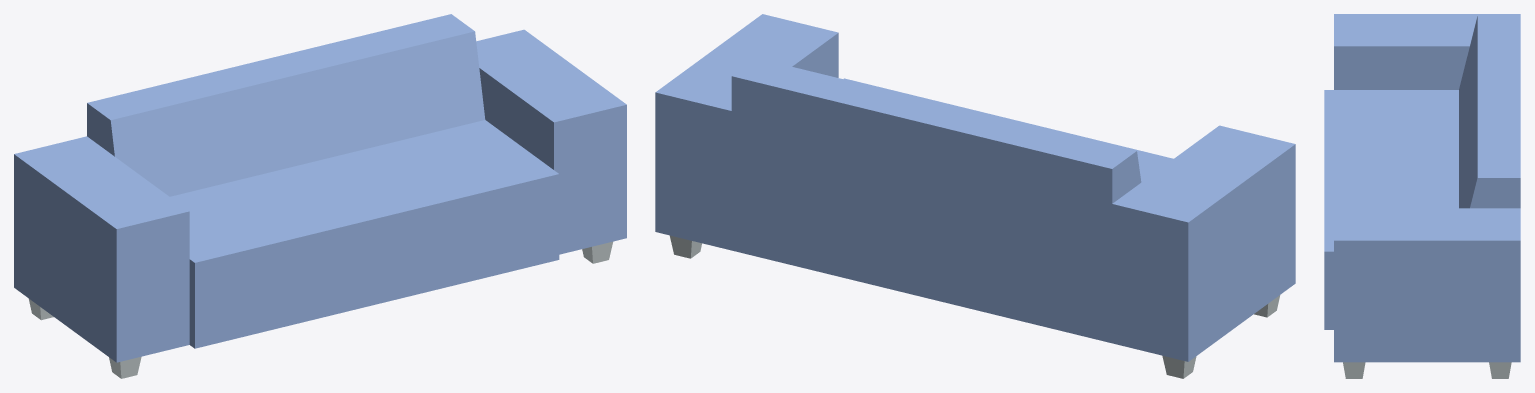
The model's file is loungeDesignSofa.glb.
The picture shows the model from 3 angles, left to right: view 1: azimuth 30°, elevation 25°; view 2: azimuth 150°, elevation 25°; view 3: azimuth 270°, elevation 25°; orthographic projection. The views are drawn at different scales.
Parts seen in each view (by area): view 1: loungeDesignSofa(Clone); view 2: loungeDesignSofa(Clone); view 3: loungeDesignSofa(Clone).
Part boxes in pixels (x1=…): loungeDesignSofa(Clone): x1=14, y1=14, x2=626, y2=378; loungeDesignSofa(Clone): x1=655, y1=14, x2=1295, y2=378; loungeDesignSofa(Clone): x1=1324, y1=14, x2=1520, y2=378.
Bounding box in the file's own units: 2.27 × 0.812 × 0.8323.
2 materials, 2 textured.
